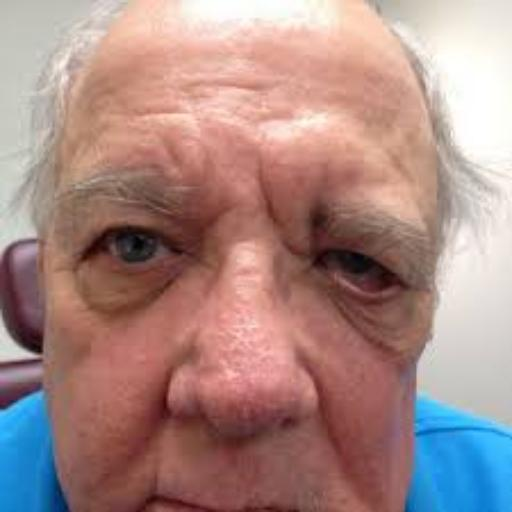left_eye: (317, 250, 405, 287)
right_eye: (83, 226, 189, 271)
